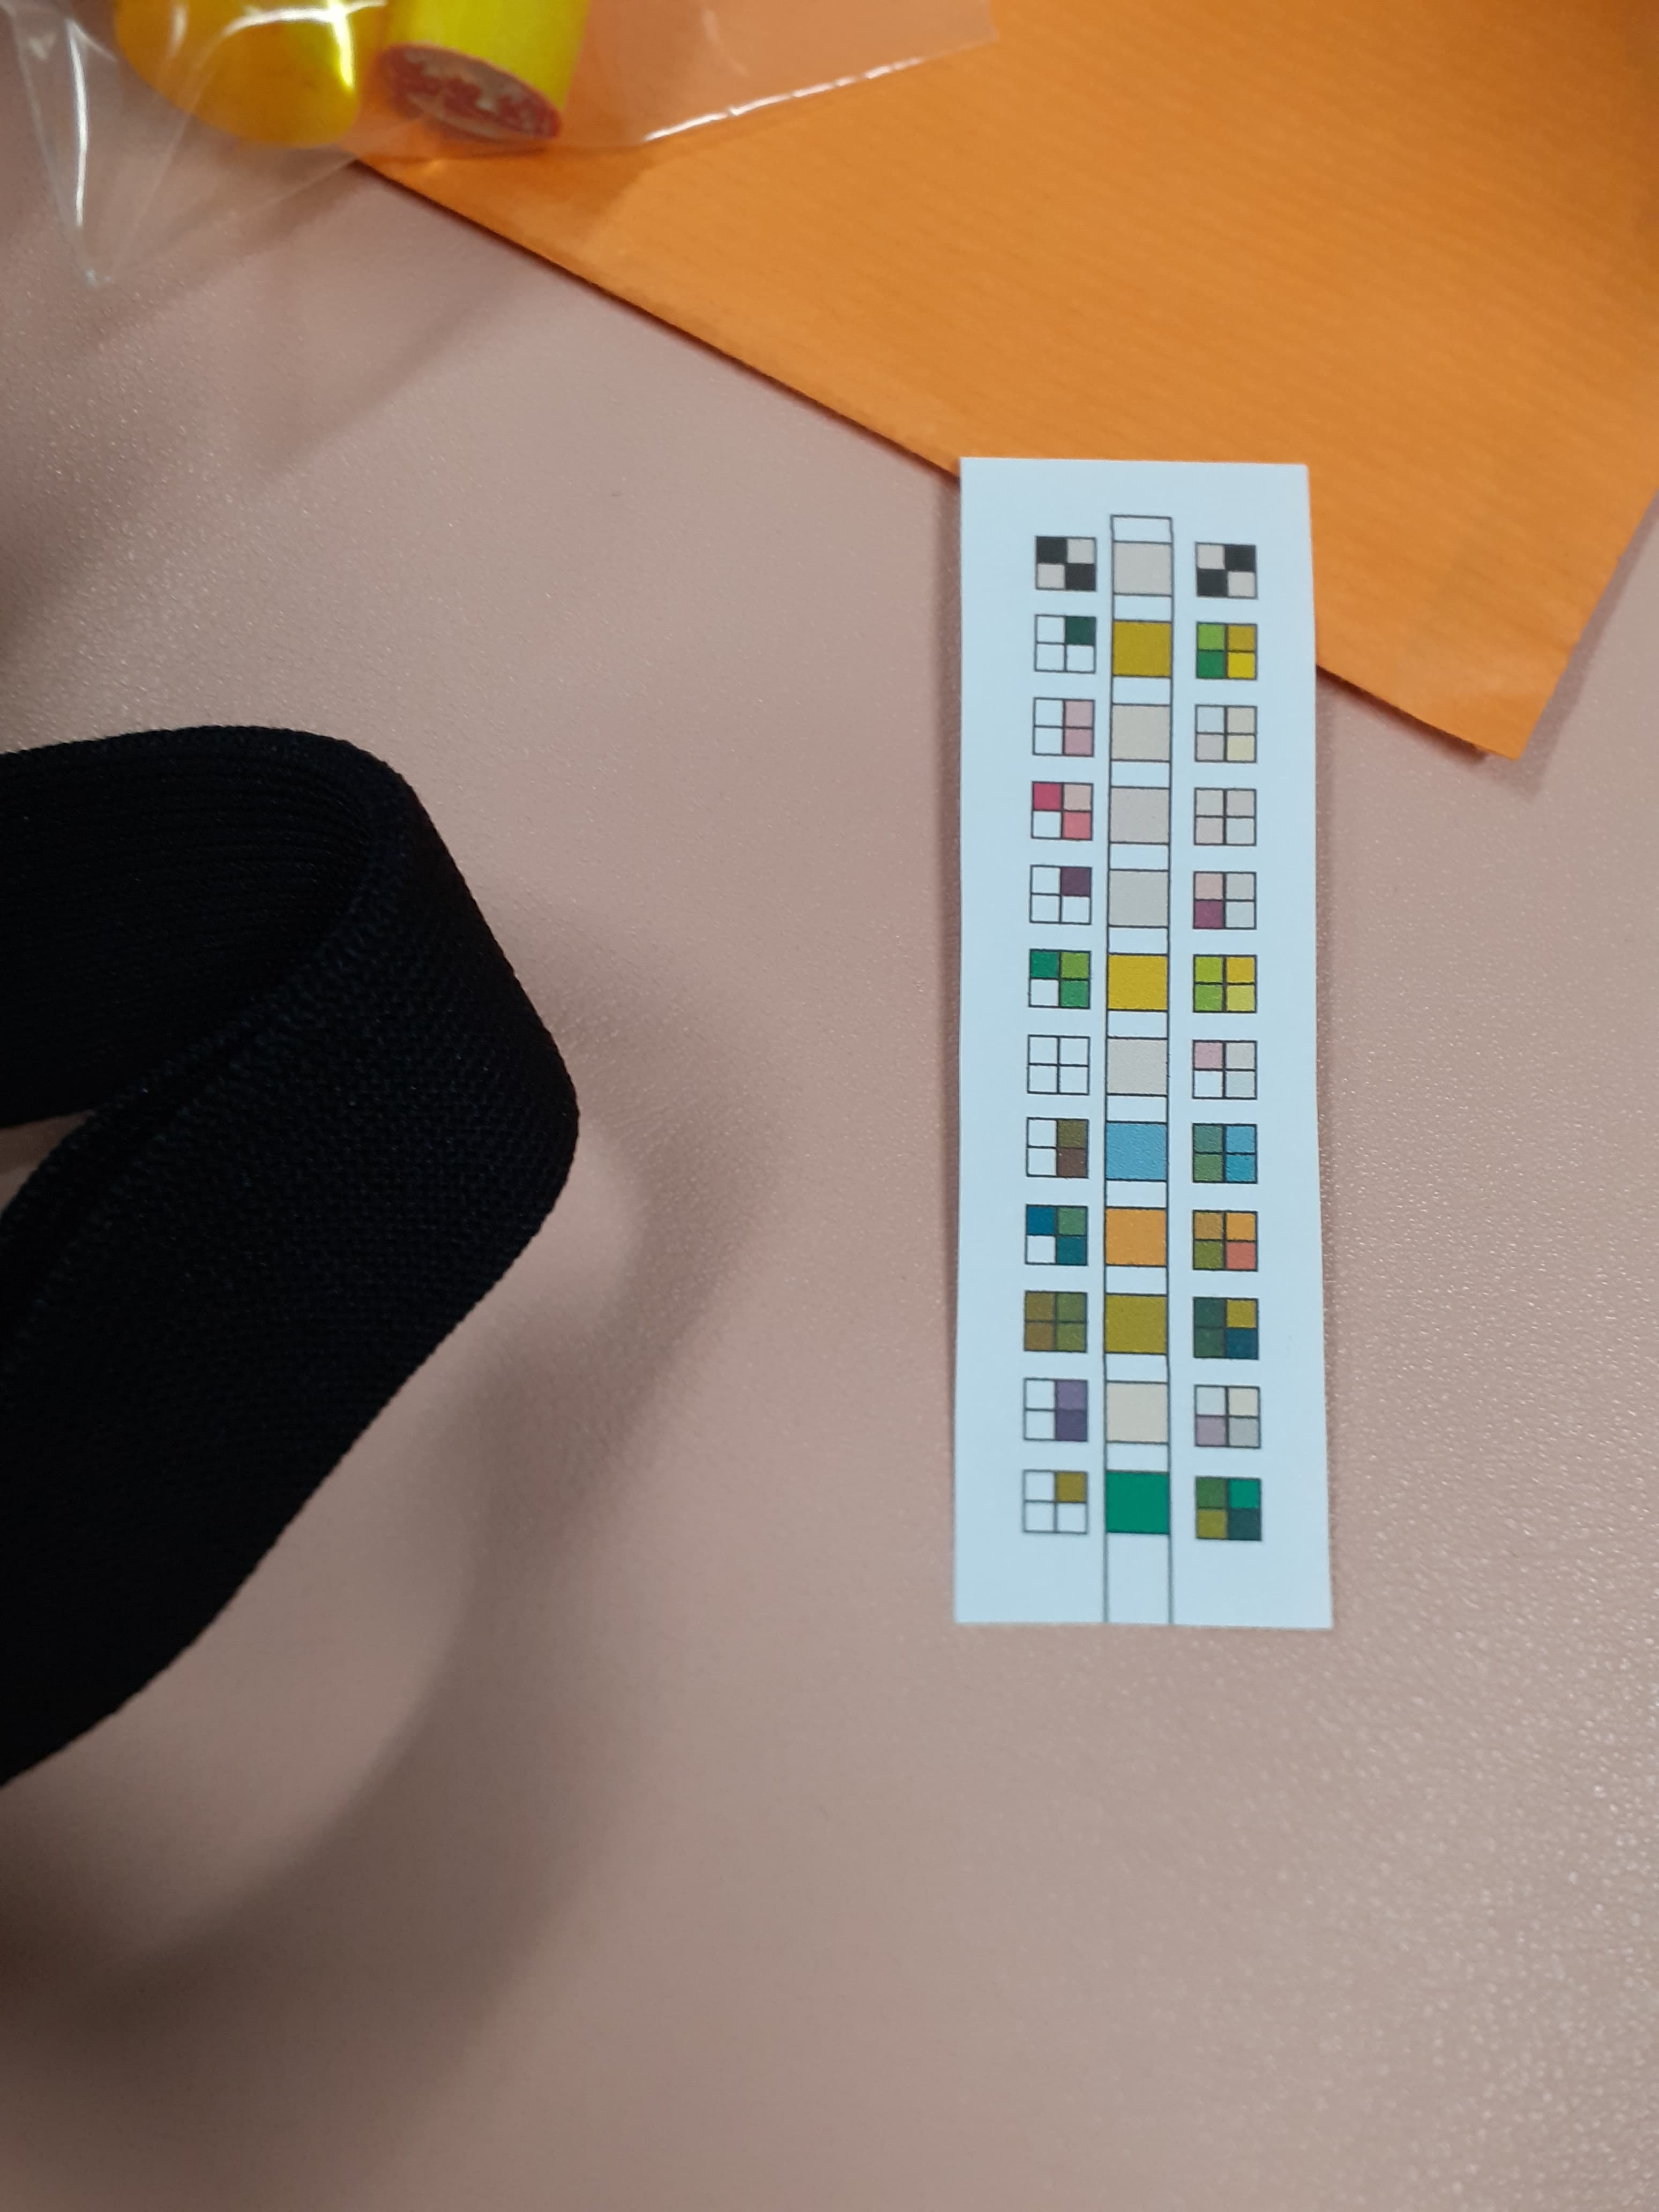tester: (953, 456, 1331, 1627)
